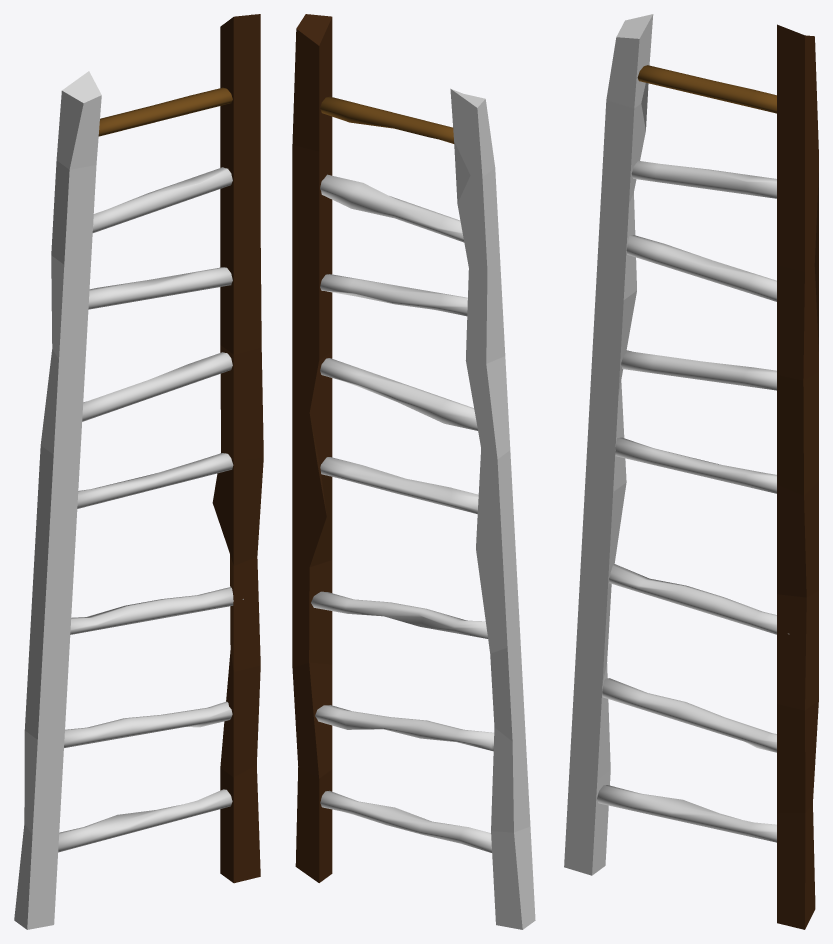
File: Stairs.fbx
3 renders of one model, left to right at view 1: azimuth 30°, elevation 25°; view 2: azimuth 150°, elevation 25°; view 3: azimuth 330°, elevation 25°, orthographic. The views are drawn at different scales.
Parts seen in each view (by area): view 1: Stairs_1, Stairs, Stairs_9, Stairs_7, Stairs_8, Stairs_5, Stairs_3, Stairs_4, Stairs_6, Stairs_2; view 2: Stairs, Stairs_1, Stairs_5, Stairs_3, Stairs_9, Stairs_8, Stairs_6, Stairs_7, Stairs_4, Stairs_2; view 3: Stairs, Stairs_1, Stairs_8, Stairs_9, Stairs_7, Stairs_4, Stairs_5, Stairs_6, Stairs_3, Stairs_2.
Boxes of the visible parts, bbox=[...] form: Stairs_1: bbox=[14, 71, 101, 929]; Stairs: bbox=[212, 14, 263, 883]; Stairs_9: bbox=[58, 789, 232, 852]; Stairs_7: bbox=[70, 587, 243, 634]; Stairs_8: bbox=[64, 701, 232, 747]; Stairs_5: bbox=[82, 352, 232, 421]; Stairs_3: bbox=[92, 167, 232, 232]; Stairs_4: bbox=[88, 267, 232, 309]; Stairs_6: bbox=[77, 453, 233, 508]; Stairs_2: bbox=[98, 87, 232, 136]; Stairs: bbox=[292, 14, 332, 882]; Stairs_1: bbox=[450, 88, 535, 929]; Stairs_5: bbox=[320, 358, 477, 430]; Stairs_3: bbox=[320, 174, 464, 242]; Stairs_9: bbox=[320, 790, 491, 852]; Stairs_8: bbox=[315, 705, 494, 751]; Stairs_6: bbox=[320, 457, 478, 513]; Stairs_7: bbox=[311, 591, 487, 638]; Stairs_4: bbox=[320, 274, 467, 316]; Stairs_2: bbox=[320, 96, 454, 143]; Stairs: bbox=[777, 24, 818, 929]; Stairs_1: bbox=[564, 14, 653, 875]; Stairs_8: bbox=[602, 678, 776, 752]; Stairs_9: bbox=[597, 785, 776, 842]; Stairs_7: bbox=[609, 564, 789, 634]; Stairs_4: bbox=[626, 235, 776, 301]; Stairs_5: bbox=[621, 350, 776, 390]; Stairs_6: bbox=[615, 437, 776, 493]; Stairs_3: bbox=[631, 160, 776, 198]; Stairs_2: bbox=[637, 65, 776, 113].
Bounding box in the file's own units: 1.16 × 0.1533 × 4.09.
